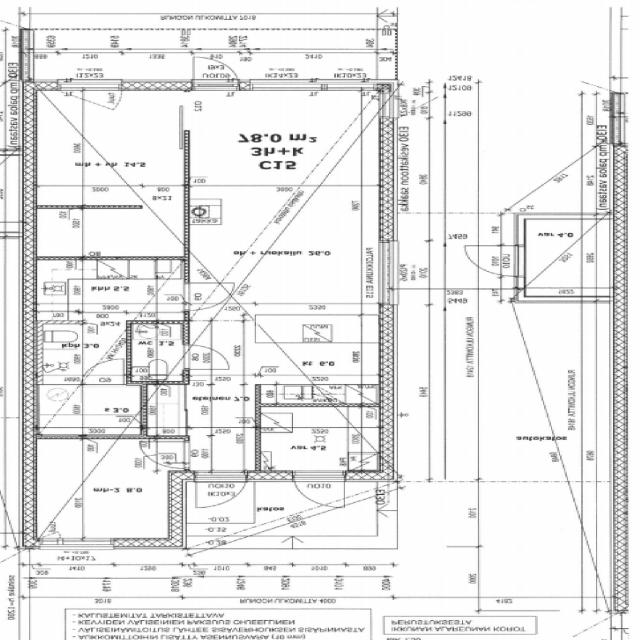door: (197, 471, 247, 512), (296, 471, 345, 511), (465, 246, 525, 276), (195, 52, 239, 90), (141, 441, 191, 469), (185, 283, 236, 310), (84, 358, 125, 384), (185, 345, 229, 369)
